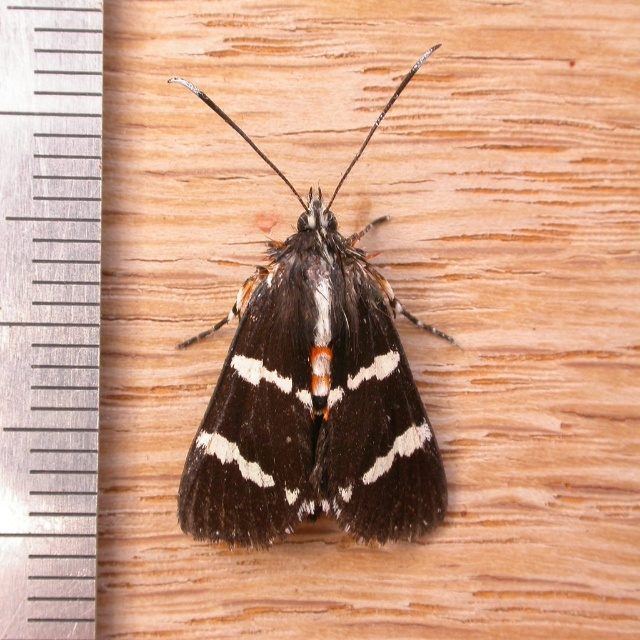Moths and butterflies: (165, 40, 468, 549)
